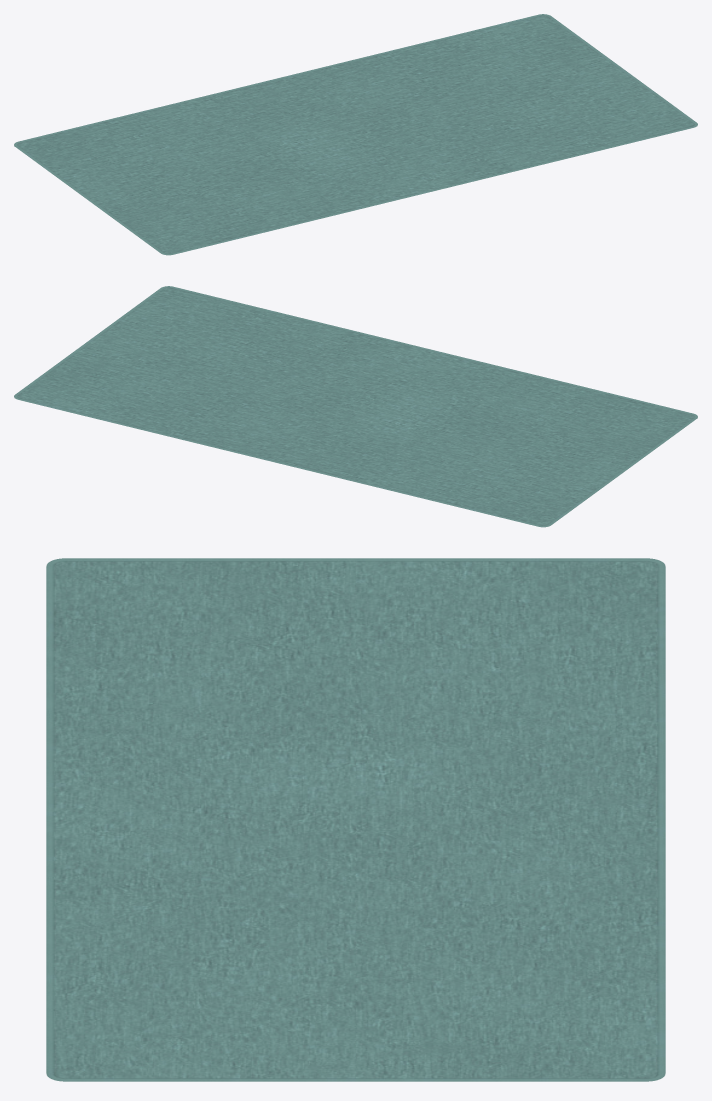
Rendered from green_module_r90.glb.
The picture shows the model from 3 angles, top to bottom: view 1: azimuth 30°, elevation 25°; view 2: azimuth 150°, elevation 25°; view 3: azimuth 270°, elevation 25°; orthographic projection. The views are drawn at different scales.
Parts seen in each view (by area): view 1: reliv_green_module_r90; view 2: reliv_green_module_r90; view 3: reliv_green_module_r90.
Part boxes in pixels (x1=…): reliv_green_module_r90: x1=14, y1=14, x2=697, y2=255; reliv_green_module_r90: x1=14, y1=286, x2=697, y2=527; reliv_green_module_r90: x1=46, y1=558, x2=665, y2=1081.
Size of the model in its own units: 2 by 0.009 by 1.
Materials: 2 (1 with a texture image).
